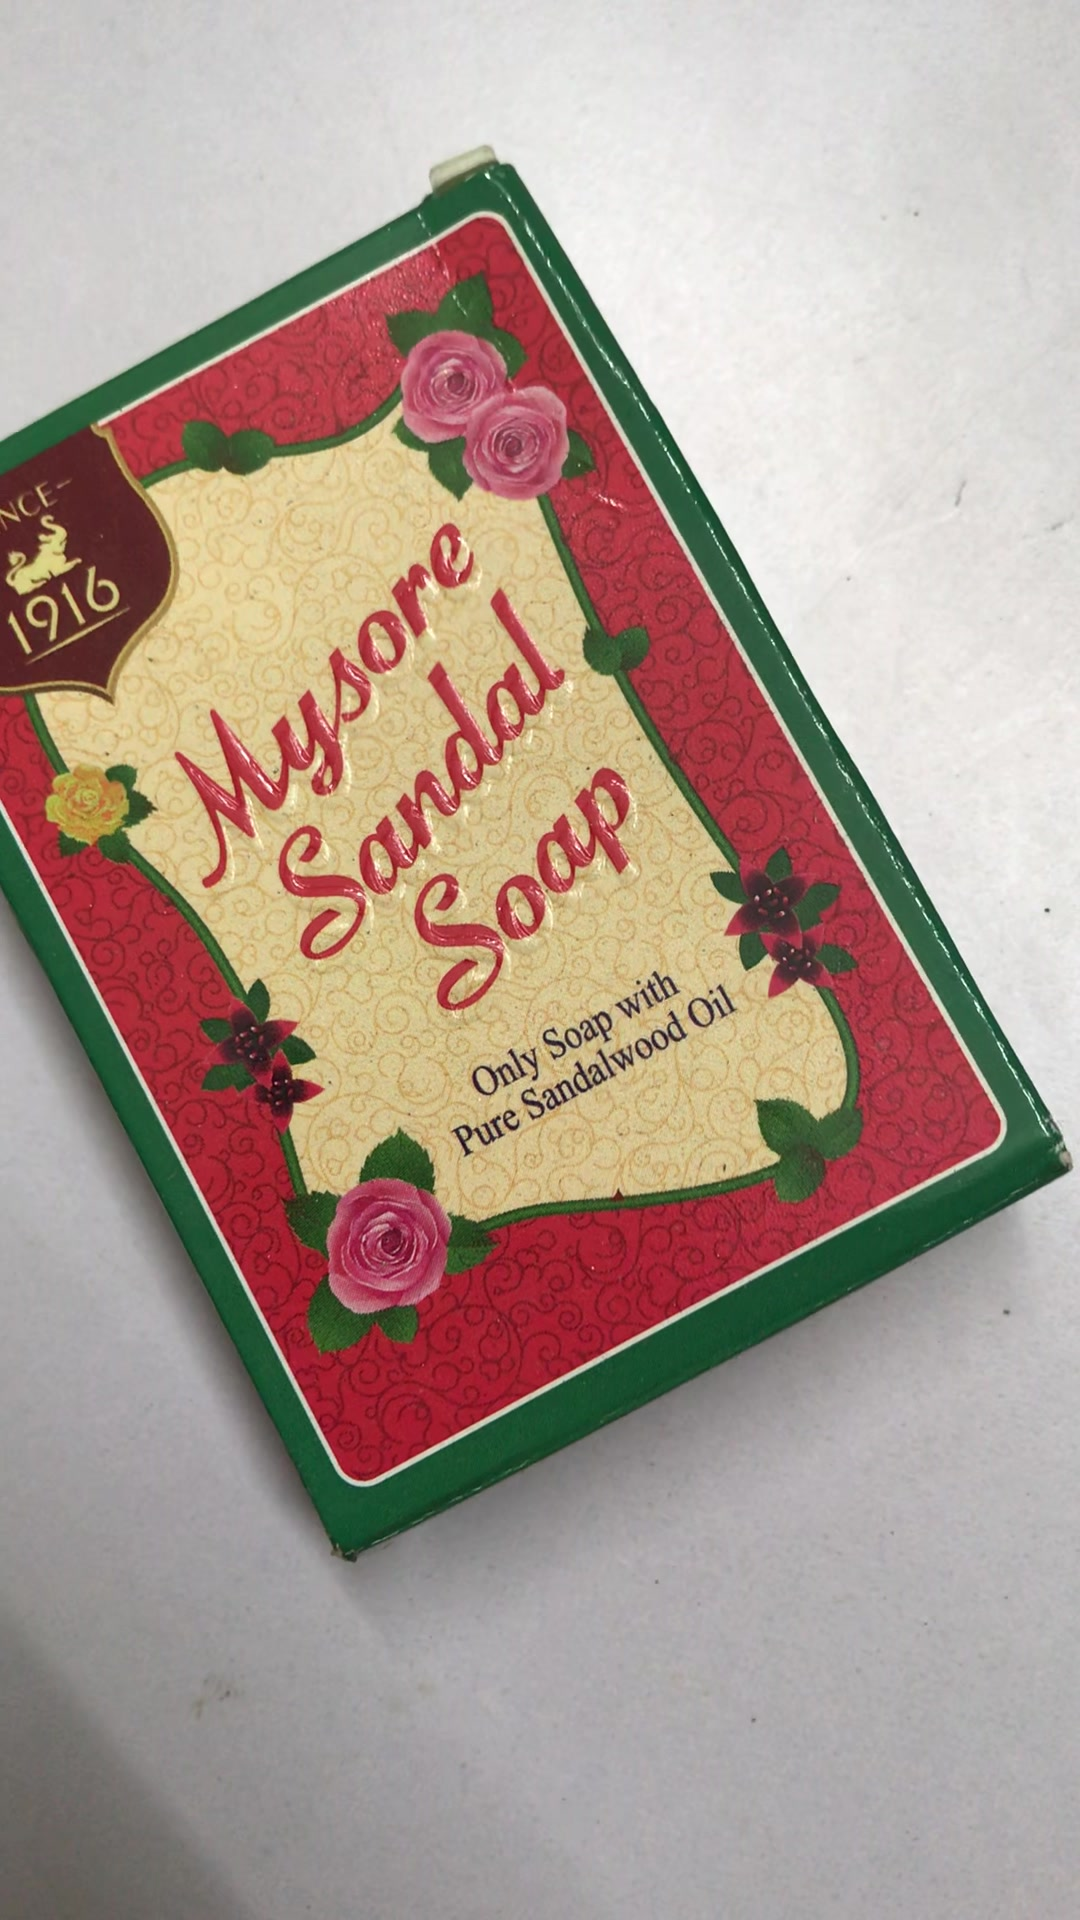mysore sandal soap: (1, 165, 1080, 1557)
